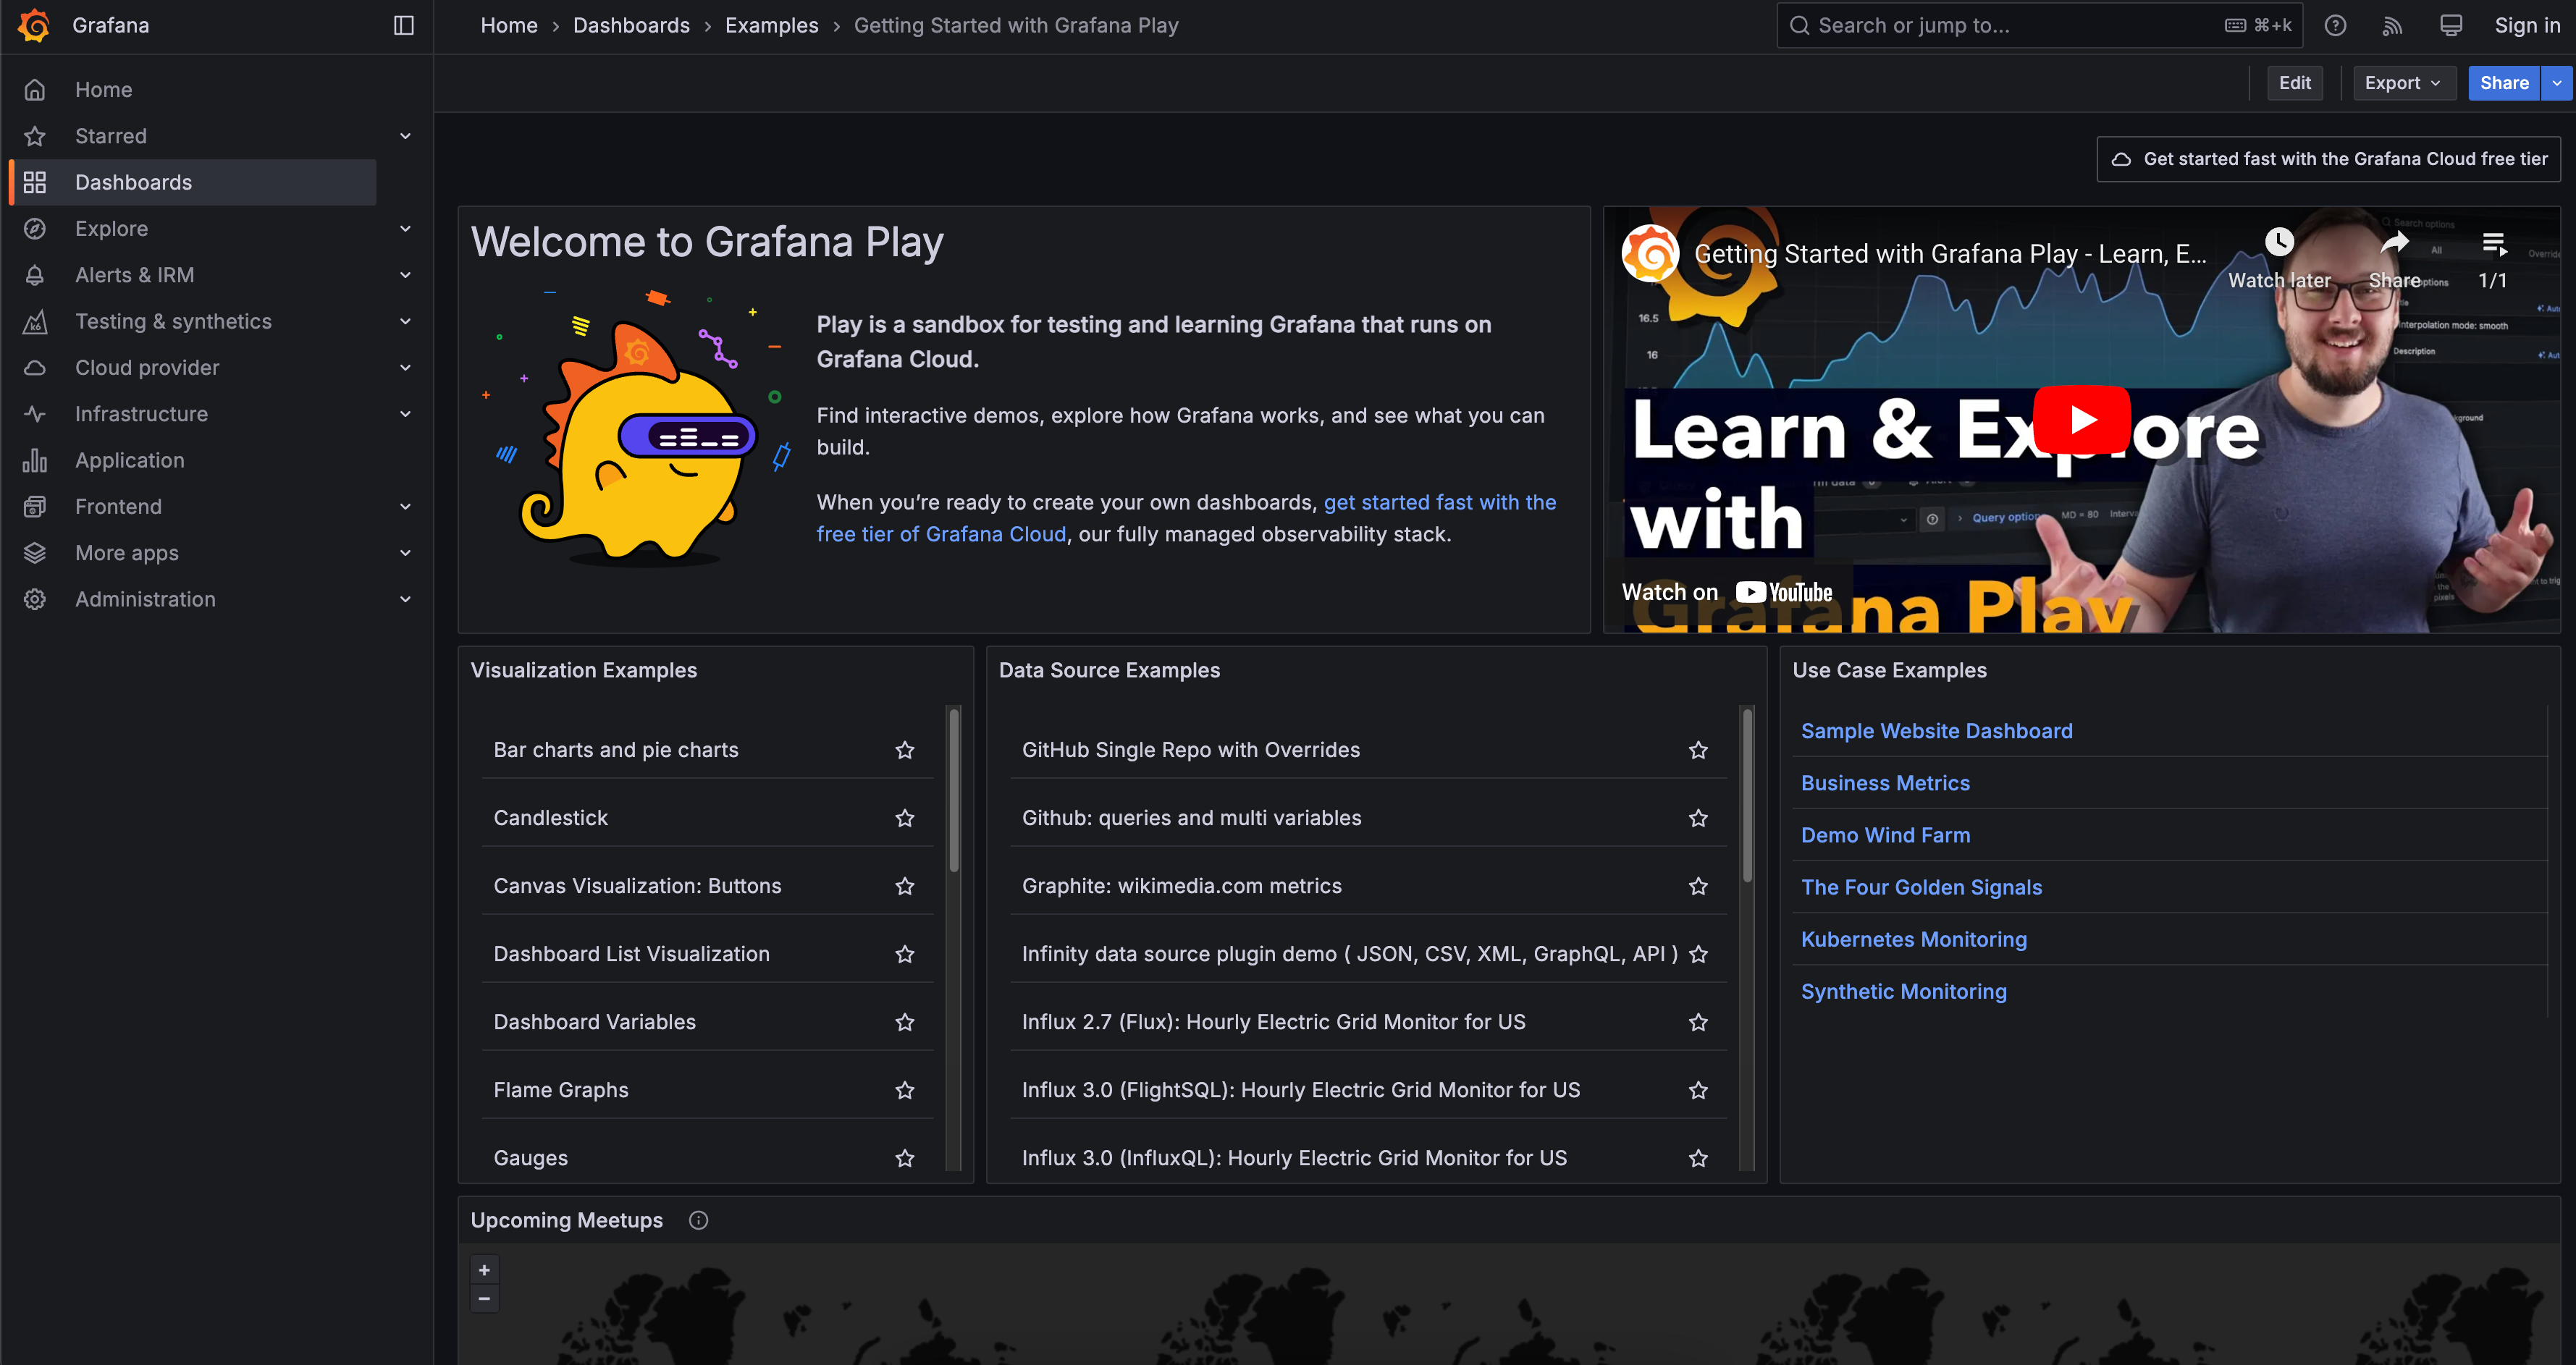button: (2097, 136, 2562, 182), (2351, 63, 2462, 104), (2467, 65, 2574, 102), (2266, 65, 2326, 102)
input: (1775, 2, 2307, 49)
label: (1820, 17, 2017, 37)
